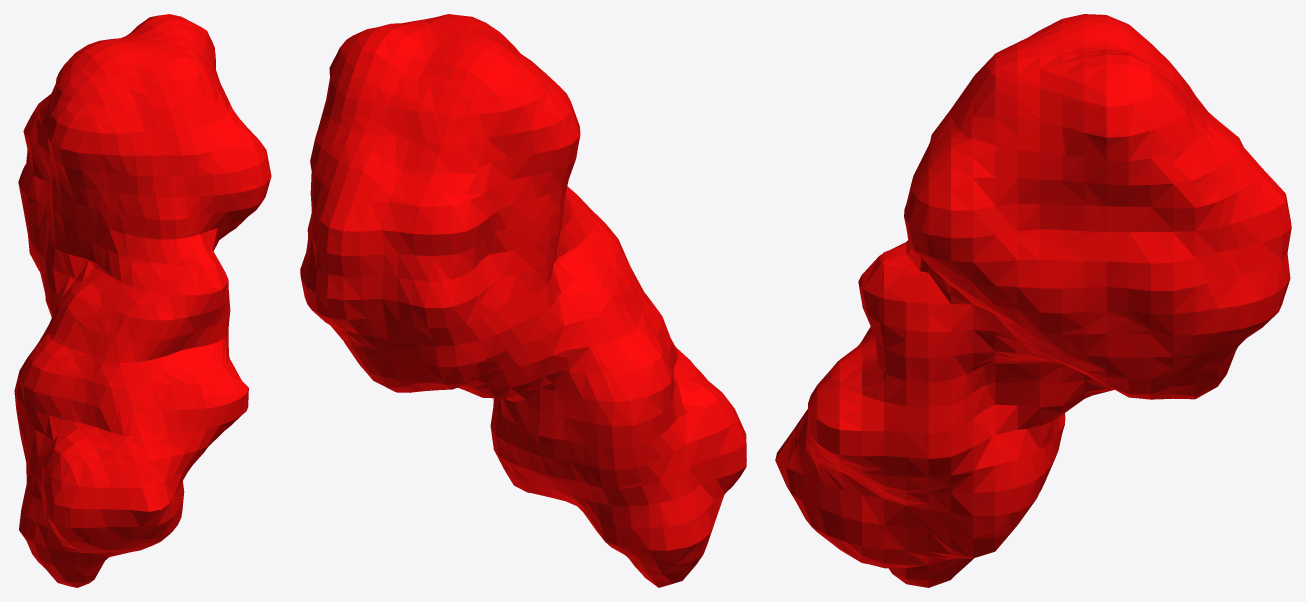
Rendered from nanR_coarse.dae.
The picture shows the model from 3 angles, left to right: view 1: azimuth 30°, elevation 25°; view 2: azimuth 150°, elevation 25°; view 3: azimuth 270°, elevation 25°; orthographic projection. The views are drawn at different scales.
Visible parts, largest first — view 1: nanR; view 2: nanR; view 3: nanR.
Boxes of the visible parts, box(x1,y1,x2,y2) form: nanR: box(14, 14, 271, 587); nanR: box(300, 14, 746, 587); nanR: box(775, 14, 1291, 587).
Bounding box in the file's own units: 42.41 × 76.36 × 56.18.
